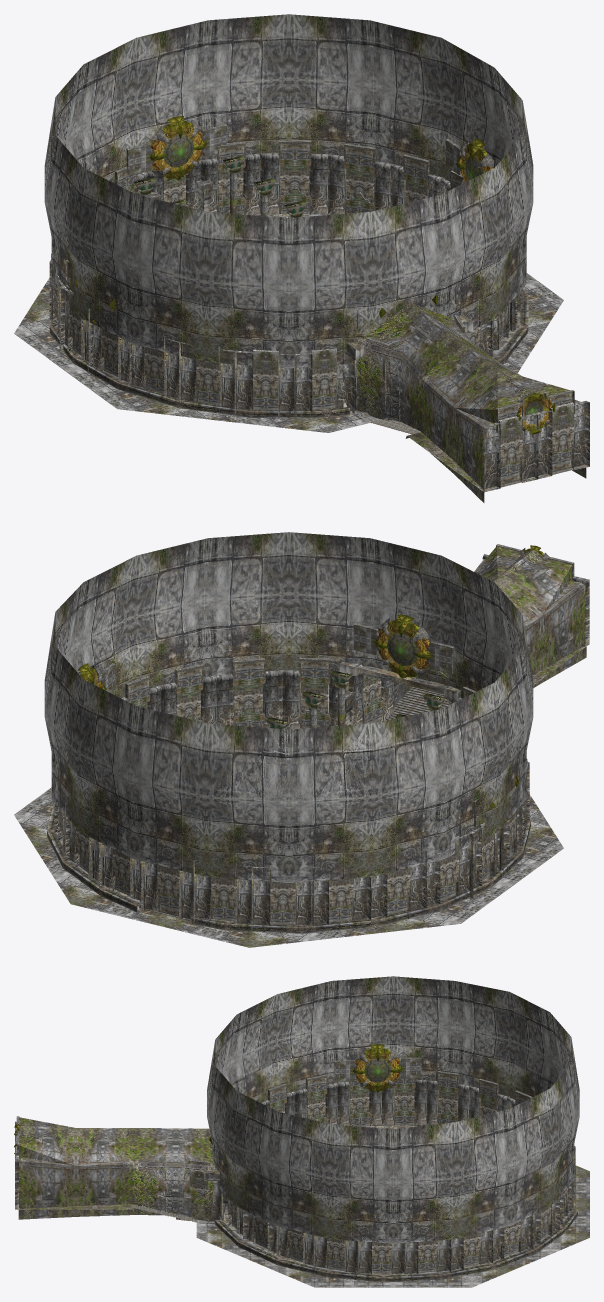
Rendered from J_JingJiChang.fbx.
The picture shows the model from 3 angles, top to bottom: view 1: azimuth 30°, elevation 25°; view 2: azimuth 150°, elevation 25°; view 3: azimuth 270°, elevation 25°; orthographic projection. The views are drawn at different scales.
Parts seen in each view (by area): view 1: pCylinder1, polySurface38, pPlane1, polySurface12, polySurface2, pTorus1, polySurface46, polySurface13, polySurface45, polySurface24, polySurface23, polySurface11 (+13 smaller); view 2: pCylinder1, pPlane1, polySurface38, pTorus1, polySurface31, polySurface19, polySurface20, polySurface6, polySurface5, polySurface18, polySurface7, polySurface10 (+12 smaller); view 3: pCylinder1, polySurface38, pPlane1, pTorus1, polySurface32, polySurface9, polySurface29, polySurface28, polySurface27, polySurface16, polySurface15, polySurface17 (+10 smaller).
Boxes of the visible parts, left/top/right/bottom form: pCylinder1: left=44, top=14, right=533, bottom=368; polySurface38: left=356, top=302, right=586, bottom=502; pPlane1: left=14, top=273, right=563, bottom=432; polySurface12: left=260, top=140, right=329, bottom=214; polySurface2: left=126, top=116, right=227, bottom=180; pTorus1: left=49, top=211, right=528, bottom=417; polySurface46: left=483, top=402, right=538, bottom=492; polySurface13: left=328, top=143, right=393, bottom=214; polySurface45: left=535, top=390, right=589, bottom=479; polySurface24: left=234, top=338, right=296, bottom=419; polySurface23: left=294, top=338, right=354, bottom=417; polySurface11: left=200, top=142, right=260, bottom=214; pCylinder1: left=44, top=532, right=533, bottom=882; pPlane1: left=14, top=787, right=563, bottom=947; polySurface38: left=394, top=546, right=586, bottom=707; pTorus1: left=47, top=802, right=530, bottom=933; polySurface31: left=353, top=614, right=454, bottom=678; polySurface19: left=213, top=658, right=282, bottom=727; polySurface20: left=282, top=657, right=348, bottom=729; polySurface6: left=251, top=865, right=313, bottom=931; polySurface5: left=193, top=860, right=253, bottom=924; polySurface18: left=160, top=664, right=216, bottom=723; polySurface7: left=311, top=867, right=370, bottom=925; polySurface10: left=141, top=861, right=193, bottom=919; pCylinder1: left=207, top=976, right=579, bottom=1243; polySurface38: left=18, top=1117, right=215, bottom=1219; pPlane1: left=196, top=1165, right=589, bottom=1287; pTorus1: left=215, top=1124, right=577, bottom=1282; polySurface32: left=334, top=1044, right=421, bottom=1092; polySurface9: left=426, top=1071, right=470, bottom=1125; polySurface29: left=382, top=1074, right=426, bottom=1125; polySurface28: left=336, top=1077, right=381, bottom=1126; polySurface27: left=295, top=1075, right=337, bottom=1124; polySurface16: left=358, top=1241, right=405, bottom=1274; polySurface15: left=404, top=1239, right=450, bottom=1274; polySurface17: left=313, top=1235, right=357, bottom=1273.
Size of the model in its own units: 38.99 by 17.69 by 57.1.
